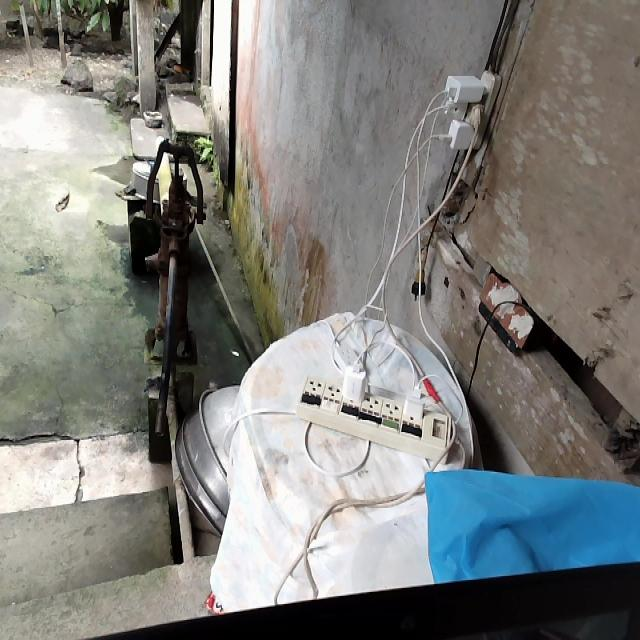-: (431, 66, 503, 154)
